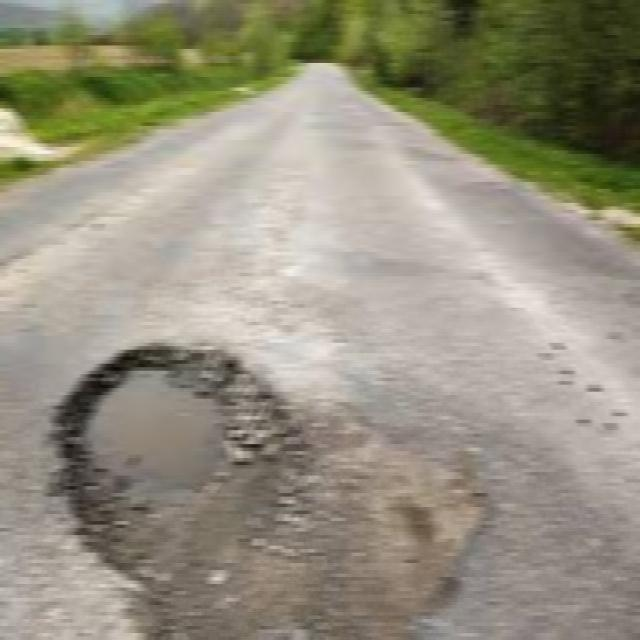Pothole: (51, 320, 494, 640)
